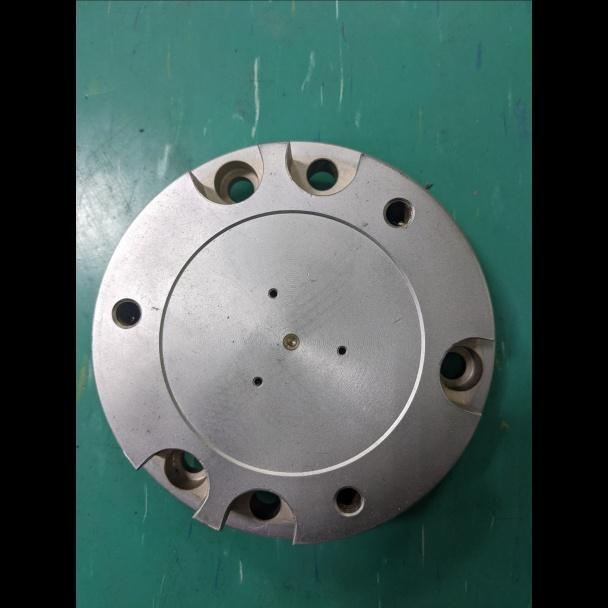hole: (432, 334, 490, 398), (201, 154, 264, 211), (155, 444, 211, 502), (298, 148, 343, 196), (245, 484, 287, 525), (329, 480, 367, 523), (108, 292, 145, 331), (380, 193, 417, 232), (249, 373, 265, 390), (334, 341, 349, 358), (265, 285, 280, 300)
